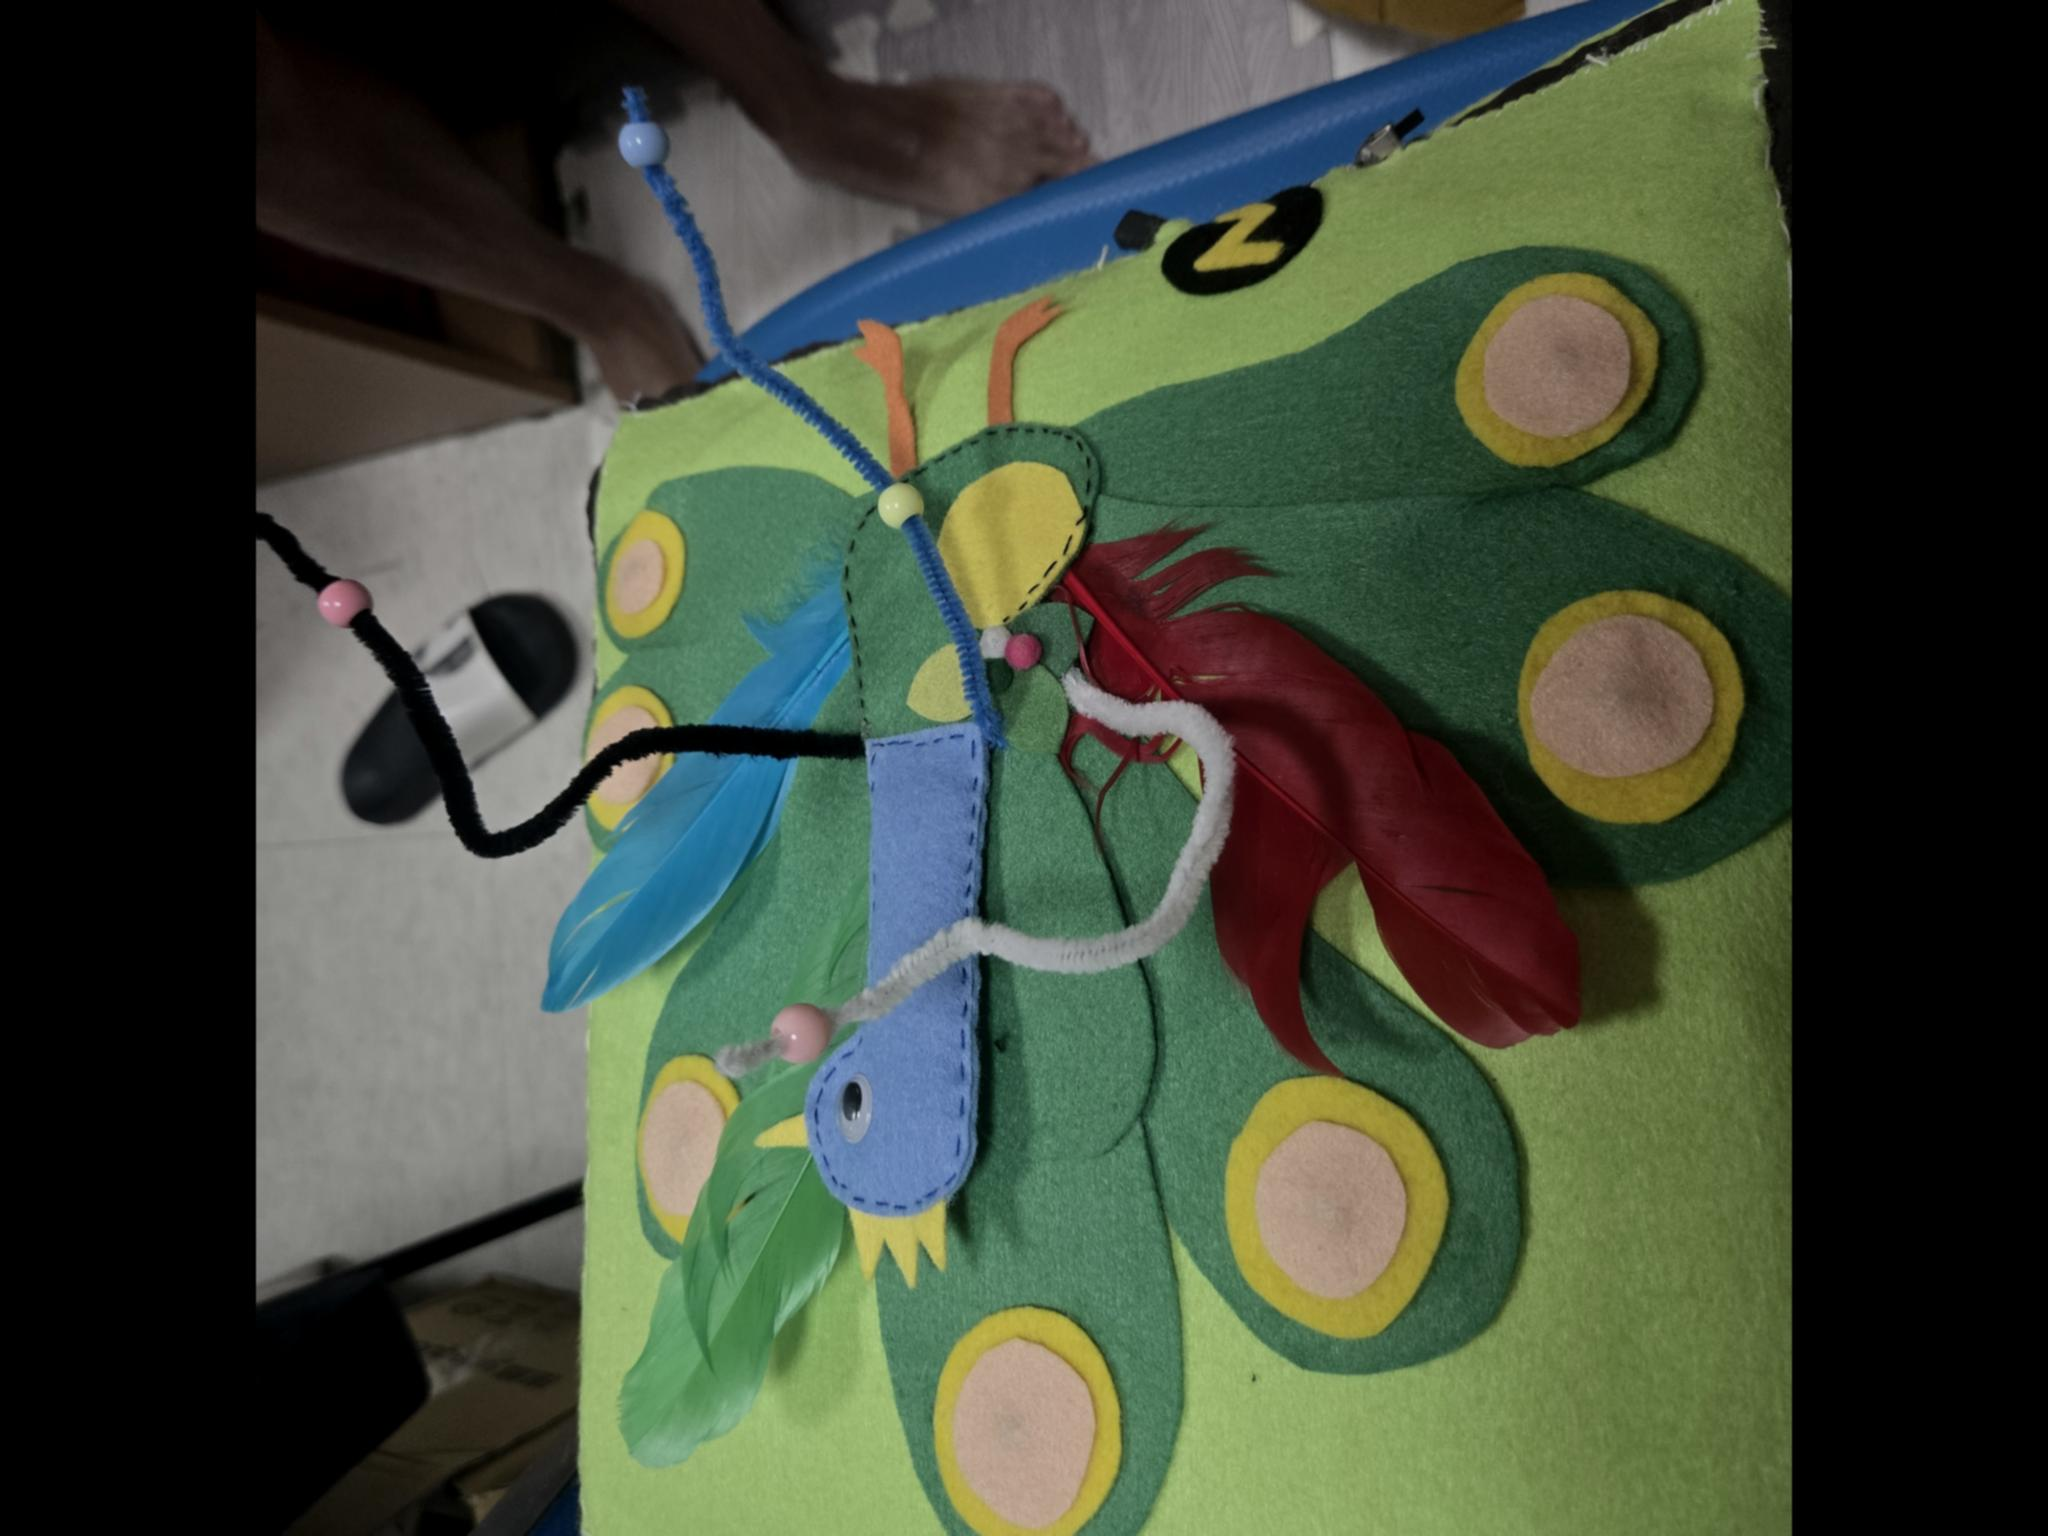bead: (755, 983, 839, 1071), (608, 108, 681, 177), (866, 474, 934, 532)
